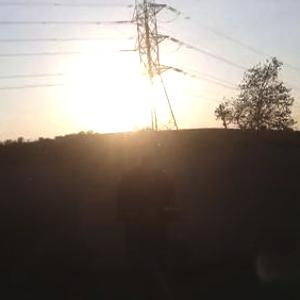follow: (112, 127, 185, 299)
